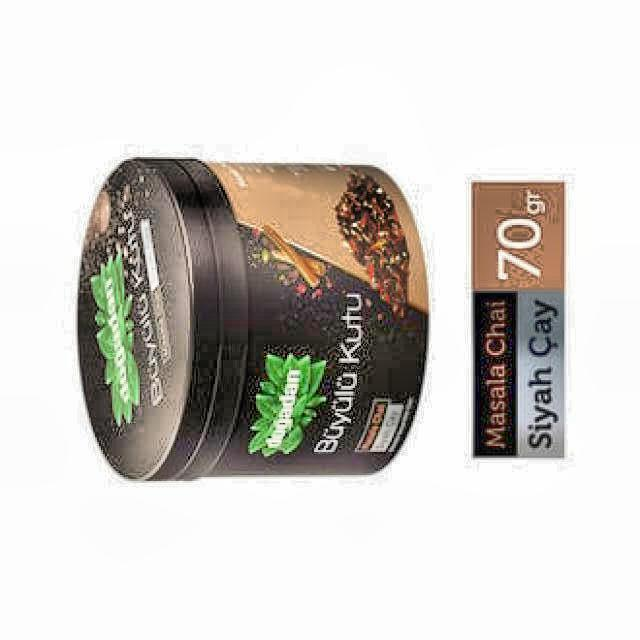plastic: (78, 158, 429, 479)
